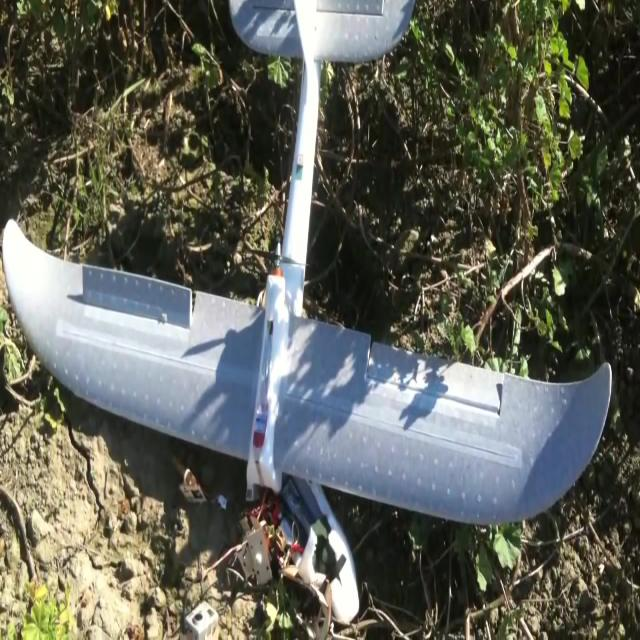iha: (3, 0, 610, 527)
